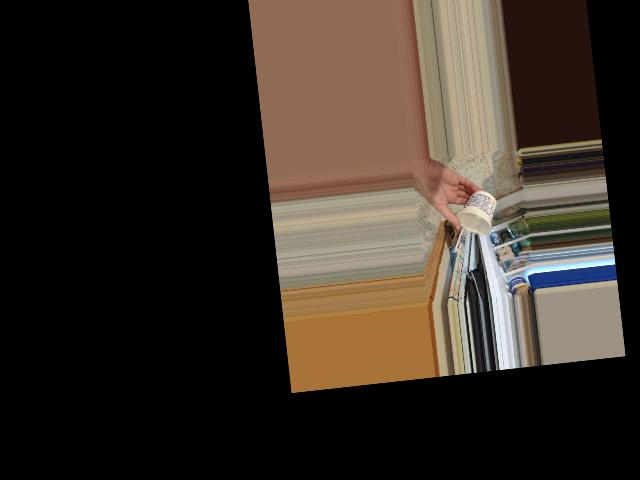cotage: (456, 193, 498, 238)
